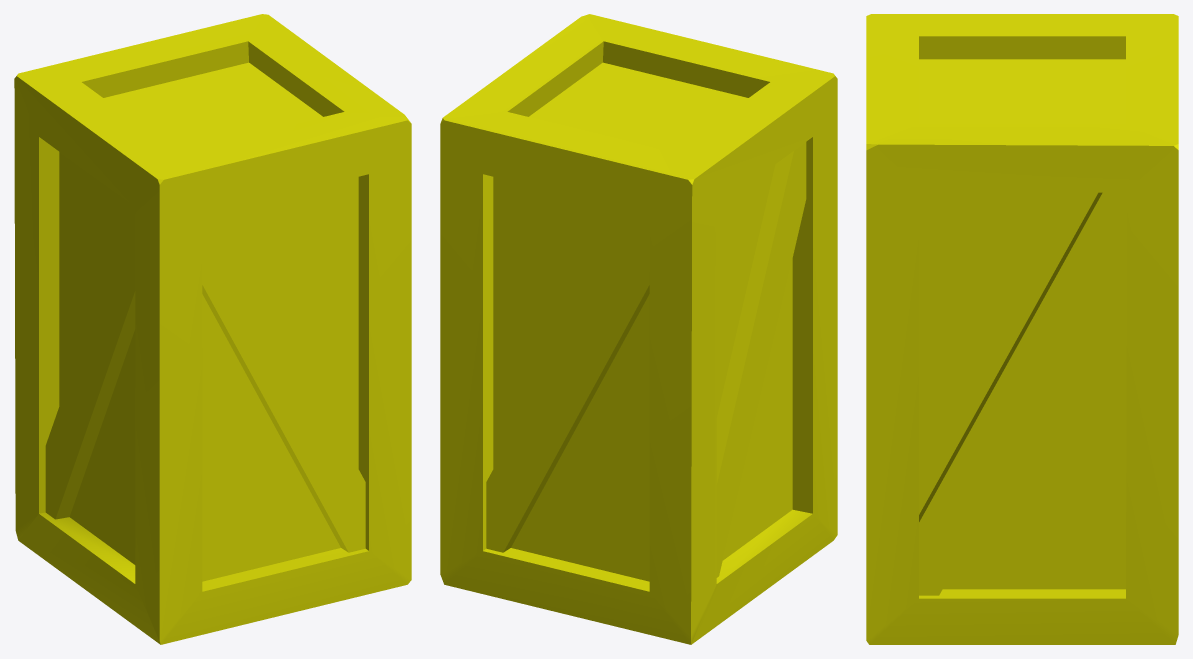
The picture shows the model from 3 angles, left to right: view 1: azimuth 30°, elevation 25°; view 2: azimuth 150°, elevation 25°; view 3: azimuth 270°, elevation 25°; orthographic projection. The views are drawn at different scales.
Parts seen in each view (by area): view 1: thunggo01; view 2: thunggo01; view 3: thunggo01.
Part boxes in pixels (x1,y1,x2,y2): thunggo01: [14, 14, 411, 644]; thunggo01: [440, 14, 837, 644]; thunggo01: [866, 14, 1178, 644].
Bounding box in the file's own units: 1.15 × 2.04 × 1.15.
Materials: 1 (1 with a texture image).
